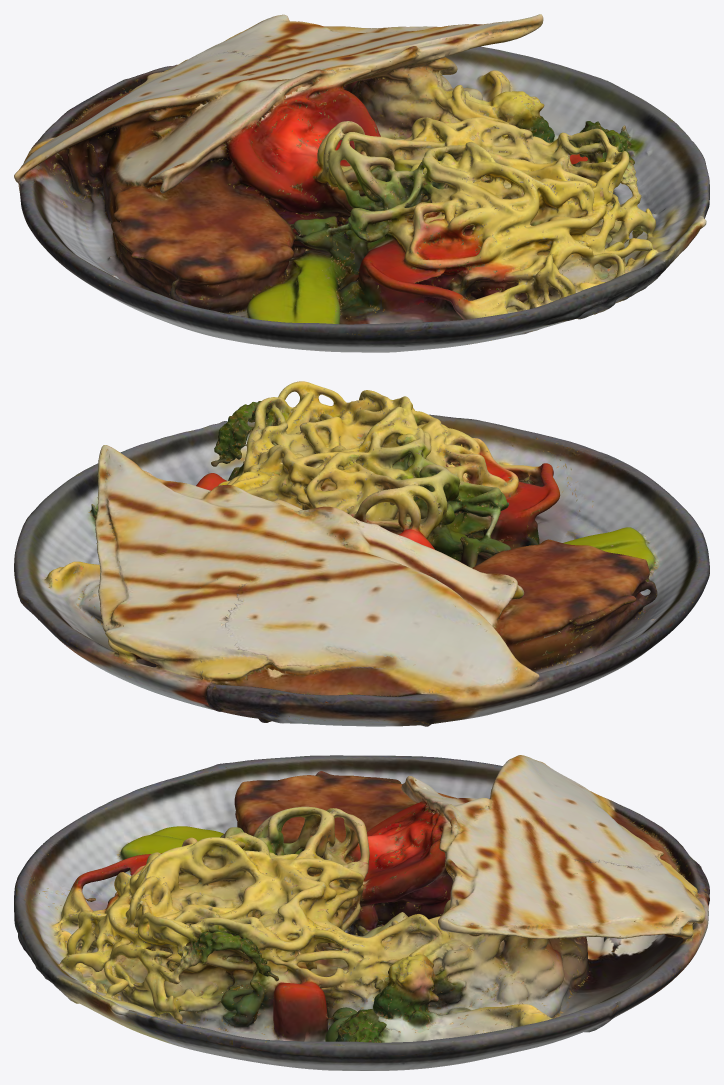
File: izgaratavuk_opt.glb
3 renders of one model, top to bottom at view 1: azimuth 30°, elevation 25°; view 2: azimuth 150°, elevation 25°; view 3: azimuth 270°, elevation 25°, orthographic.
Size of the model in its own units: 2 by 0.448 by 2.
1 material, 1 textured.
